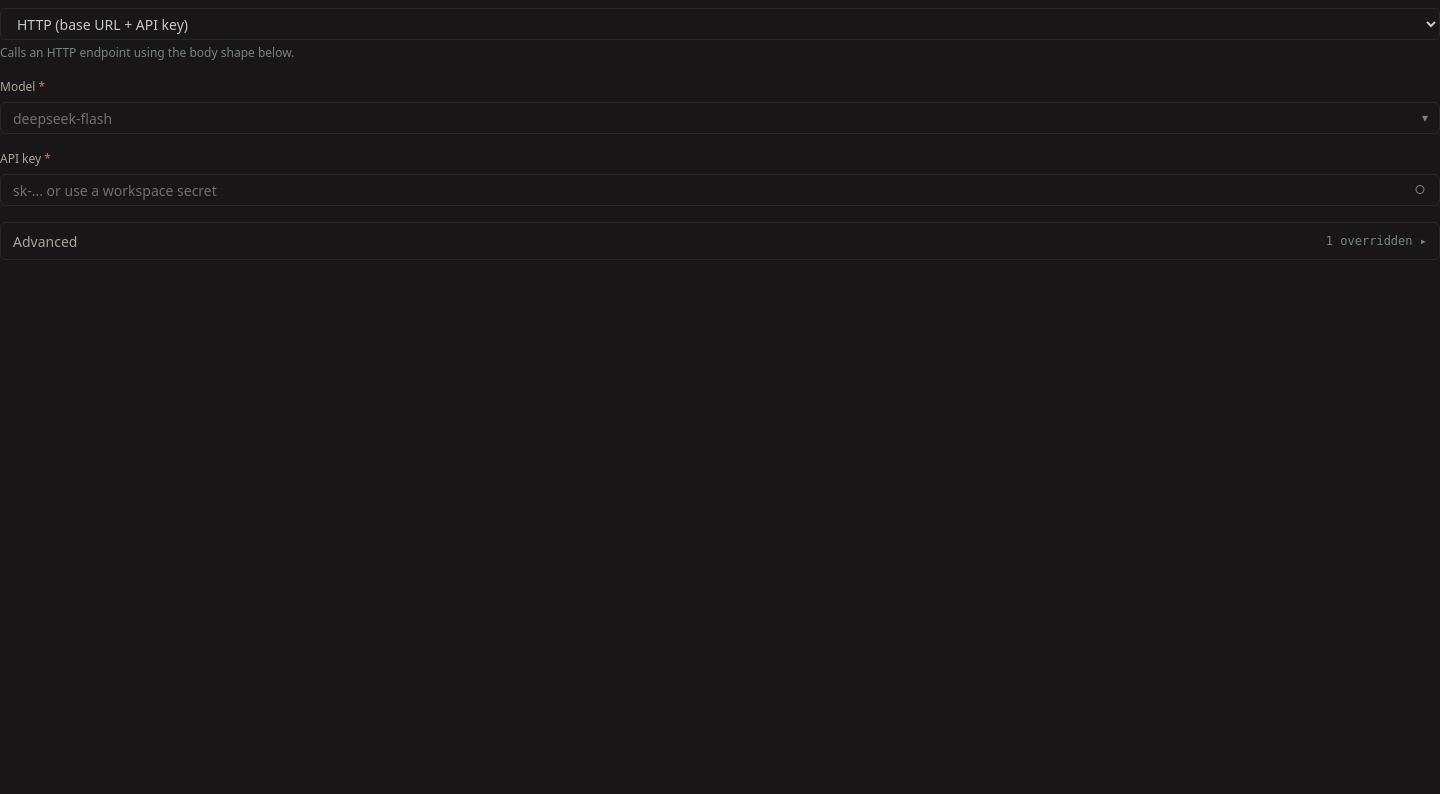
Test: LlmConfigForm › enables the capacity input when override is set
Click the button with test id "advanced-toggle" at (45, 241), box [1,223,1439,259]
(page scrolled)
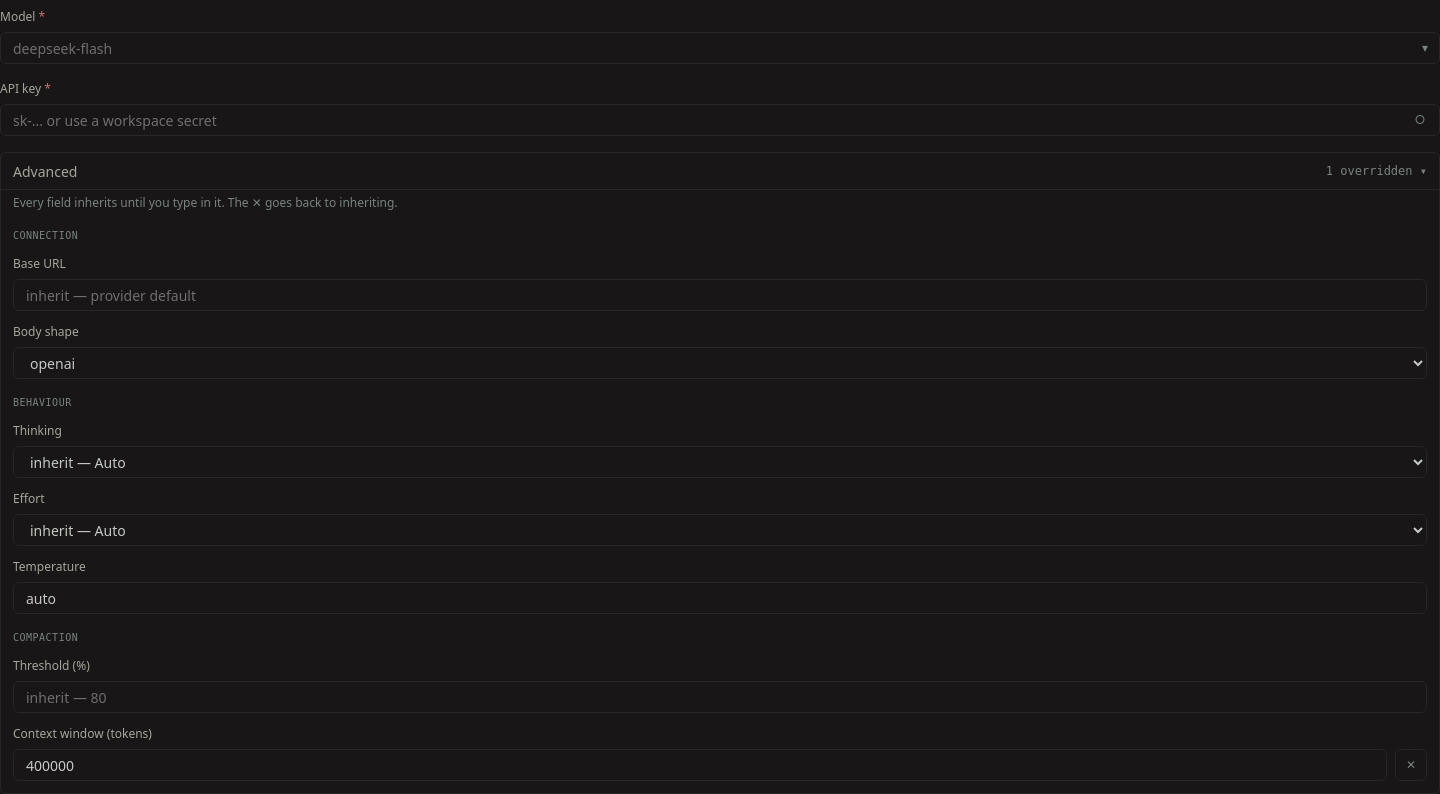
Now the number field with test id "agent-capacity-input" is enabled, box [13,749,1387,781]
Now the number field with test id "agent-capacity-input" holds "400000", box [13,749,1387,781]
